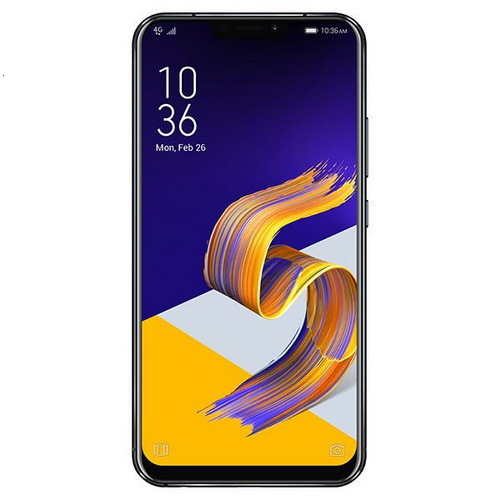Handphone: (127, 10, 376, 493)
